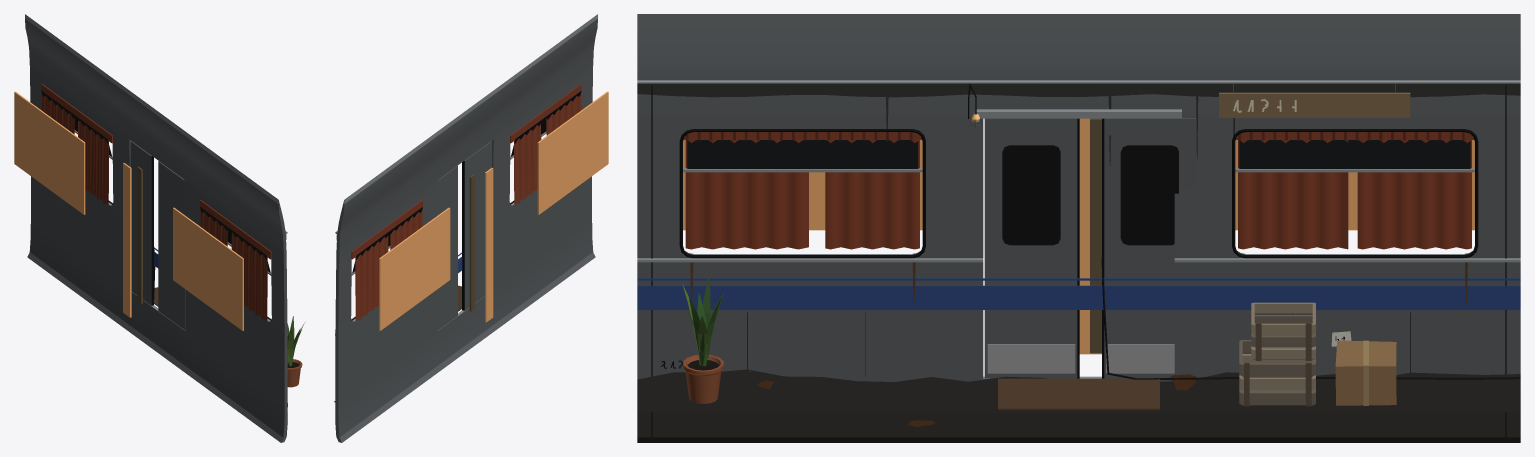
Rendered from metro_dormant_home.glb.
3 views of the same model, side by side, from view 1: azimuth 30°, elevation 25°; view 2: azimuth 150°, elevation 25°; view 3: azimuth 270°, elevation 25° (orthographic). The views are drawn at different scales.
Parts seen in each view (by area): view 1: oben, schuerze, unten-3.00, innenlicht1.1, innenlicht-2.7, unten0.65, tuer0, tuer1, vorhang-2.7-2.67, vorhang1.11.08, tuerspalt_licht, pfeiler-3.00 (+14 smaller); view 2: oben, schuerze, unten0.65, unten-3.00, innenlicht-2.7, innenlicht1.1, tuer0, tuer1, vorhang1.11.89, vorhang-2.7-1.72, tuerspalt_licht, pfeiler-1.05 (+13 smaller); view 3: oben, bremsstaub, unten-3.00, unten0.65, streifen, tuer0, tuer1, ablaufschmutz, vorhang-2.7-2.67, vorhang1.11.89, vorhang1.11.08, vorhang-2.7-1.72 (+33 smaller).
Boxes of the visible parts, left/top/right/bottom form: oben: left=25, top=14, right=286, bottom=251; schuerze: left=27, top=218, right=287, bottom=442; unten-3.00: left=185, top=289, right=287, bottom=403; innenlicht1.1: left=14, top=91, right=85, bottom=214; innenlicht-2.7: left=173, top=207, right=243, bottom=330; unten0.65: left=31, top=176, right=122, bottom=284; tuer0: left=158, top=161, right=185, bottom=330; tuer1: left=130, top=141, right=151, bottom=305; vorhang-2.7-2.67: left=231, top=232, right=267, bottom=320; vorhang1.11.08: left=78, top=120, right=108, bottom=204; tuerspalt_licht: left=123, top=163, right=131, bottom=317; pfeiler-3.00: left=271, top=253, right=287, bottom=332; oben: left=336, top=14, right=597, bottom=251; schuerze: left=335, top=218, right=595, bottom=442; unten0.65: left=335, top=289, right=437, bottom=403; unten-3.00: left=493, top=176, right=591, bottom=289; innenlicht-2.7: left=537, top=91, right=608, bottom=214; innenlicht1.1: left=379, top=207, right=450, bottom=330; tuer0: left=464, top=141, right=491, bottom=310; tuer1: left=437, top=166, right=457, bottom=330; vorhang1.11.89: left=355, top=233, right=388, bottom=320; vorhang-2.7-1.72: left=514, top=121, right=541, bottom=204; tuerspalt_licht: left=485, top=168, right=493, bottom=322; pfeiler-1.05: left=492, top=136, right=510, bottom=219; oben: left=637, top=14, right=1520, bottom=113; bremsstaub: left=637, top=369, right=1520, bottom=442; unten-3.00: left=637, top=254, right=983, bottom=378; unten0.65: left=1174, top=254, right=1520, bottom=377; streifen: left=637, top=285, right=1520, bottom=309; tuer0: left=984, top=118, right=1077, bottom=378; tuer1: left=1104, top=118, right=1196, bottom=378; ablaufschmutz: left=637, top=84, right=1520, bottom=165; vorhang-2.7-2.67: left=685, top=140, right=808, bottom=249; vorhang1.11.89: left=1357, top=140, right=1471, bottom=249; vorhang1.11.08: left=1238, top=140, right=1348, bottom=249; vorhang-2.7-1.72: left=825, top=140, right=919, bottom=249.
Size of the model in its own units: 0.94 by 3.18 by 6.
